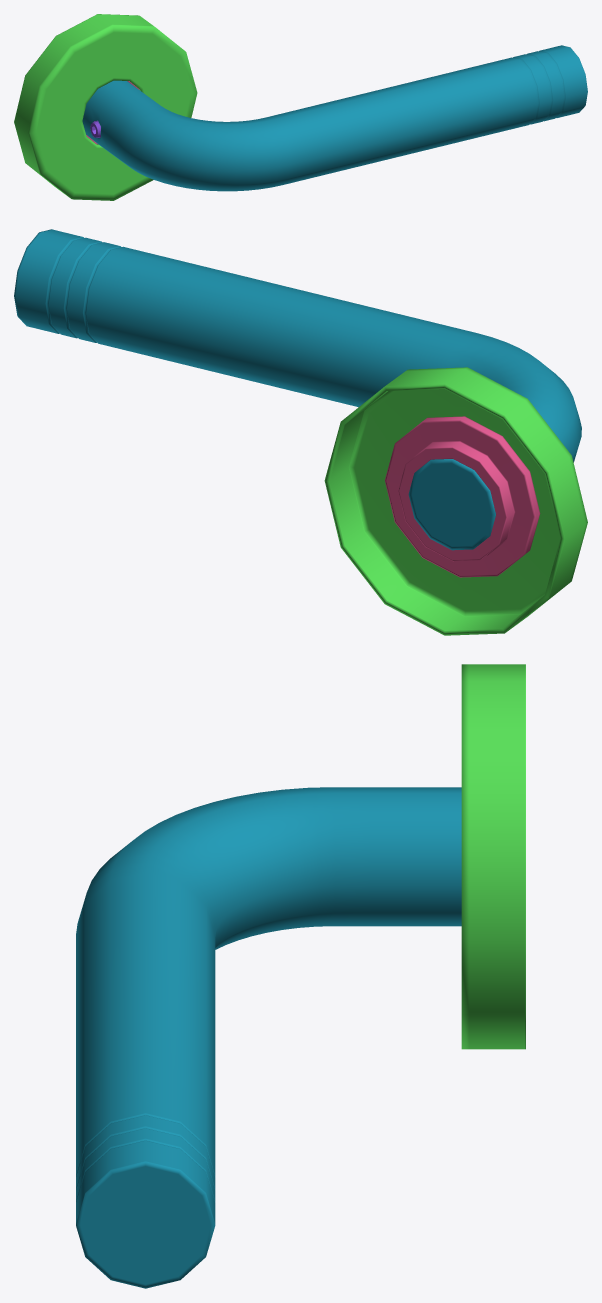
The picture shows the model from 3 angles, top to bottom: view 1: azimuth 30°, elevation 25°; view 2: azimuth 150°, elevation 25°; view 3: azimuth 270°, elevation 25°; orthographic projection. The views are drawn at different scales.
Parts seen in each view (by area): view 1: Handle, Escutcheons_Handle; view 2: Handle, Escutcheons_Handle, Washer; view 3: Handle, Escutcheons_Handle.
Boxes of the visible parts, x1=… form: Handle: x1=82, y1=45, x2=587, y2=191; Escutcheons_Handle: x1=14, y1=14, x2=197, y2=200; Handle: x1=14, y1=229, x2=581, y2=550; Escutcheons_Handle: x1=324, y1=367, x2=587, y2=635; Washer: x1=385, y1=416, x2=540, y2=577; Handle: x1=76, y1=787, x2=461, y2=1288; Escutcheons_Handle: x1=461, y1=664, x2=525, y2=1049.
Bounding box in the file's own units: 153 × 55.4 × 64.53.
